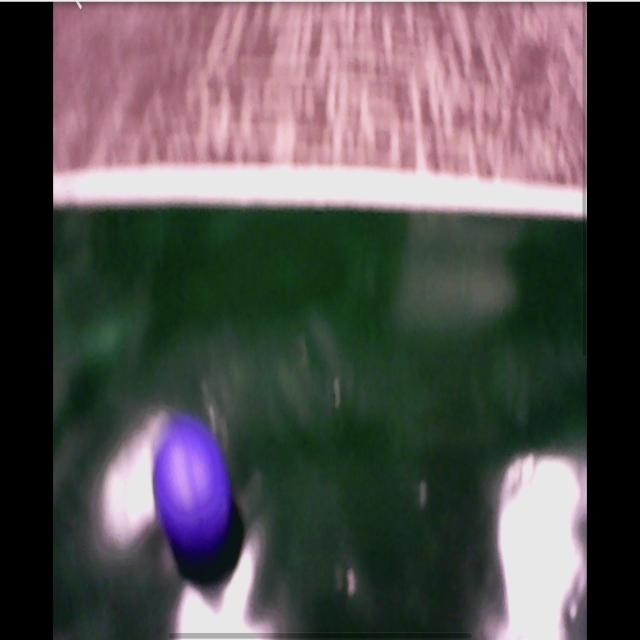ball: (153, 423, 232, 553)
